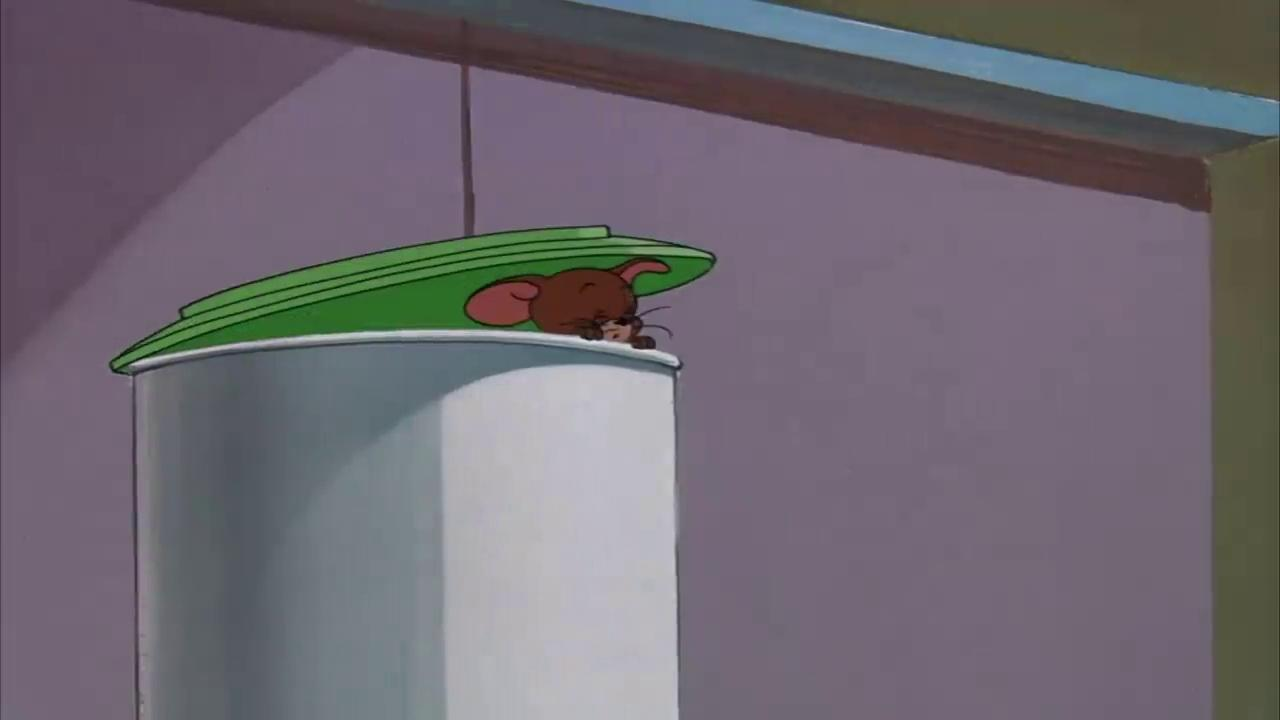Jerry: (461, 256, 674, 353)
